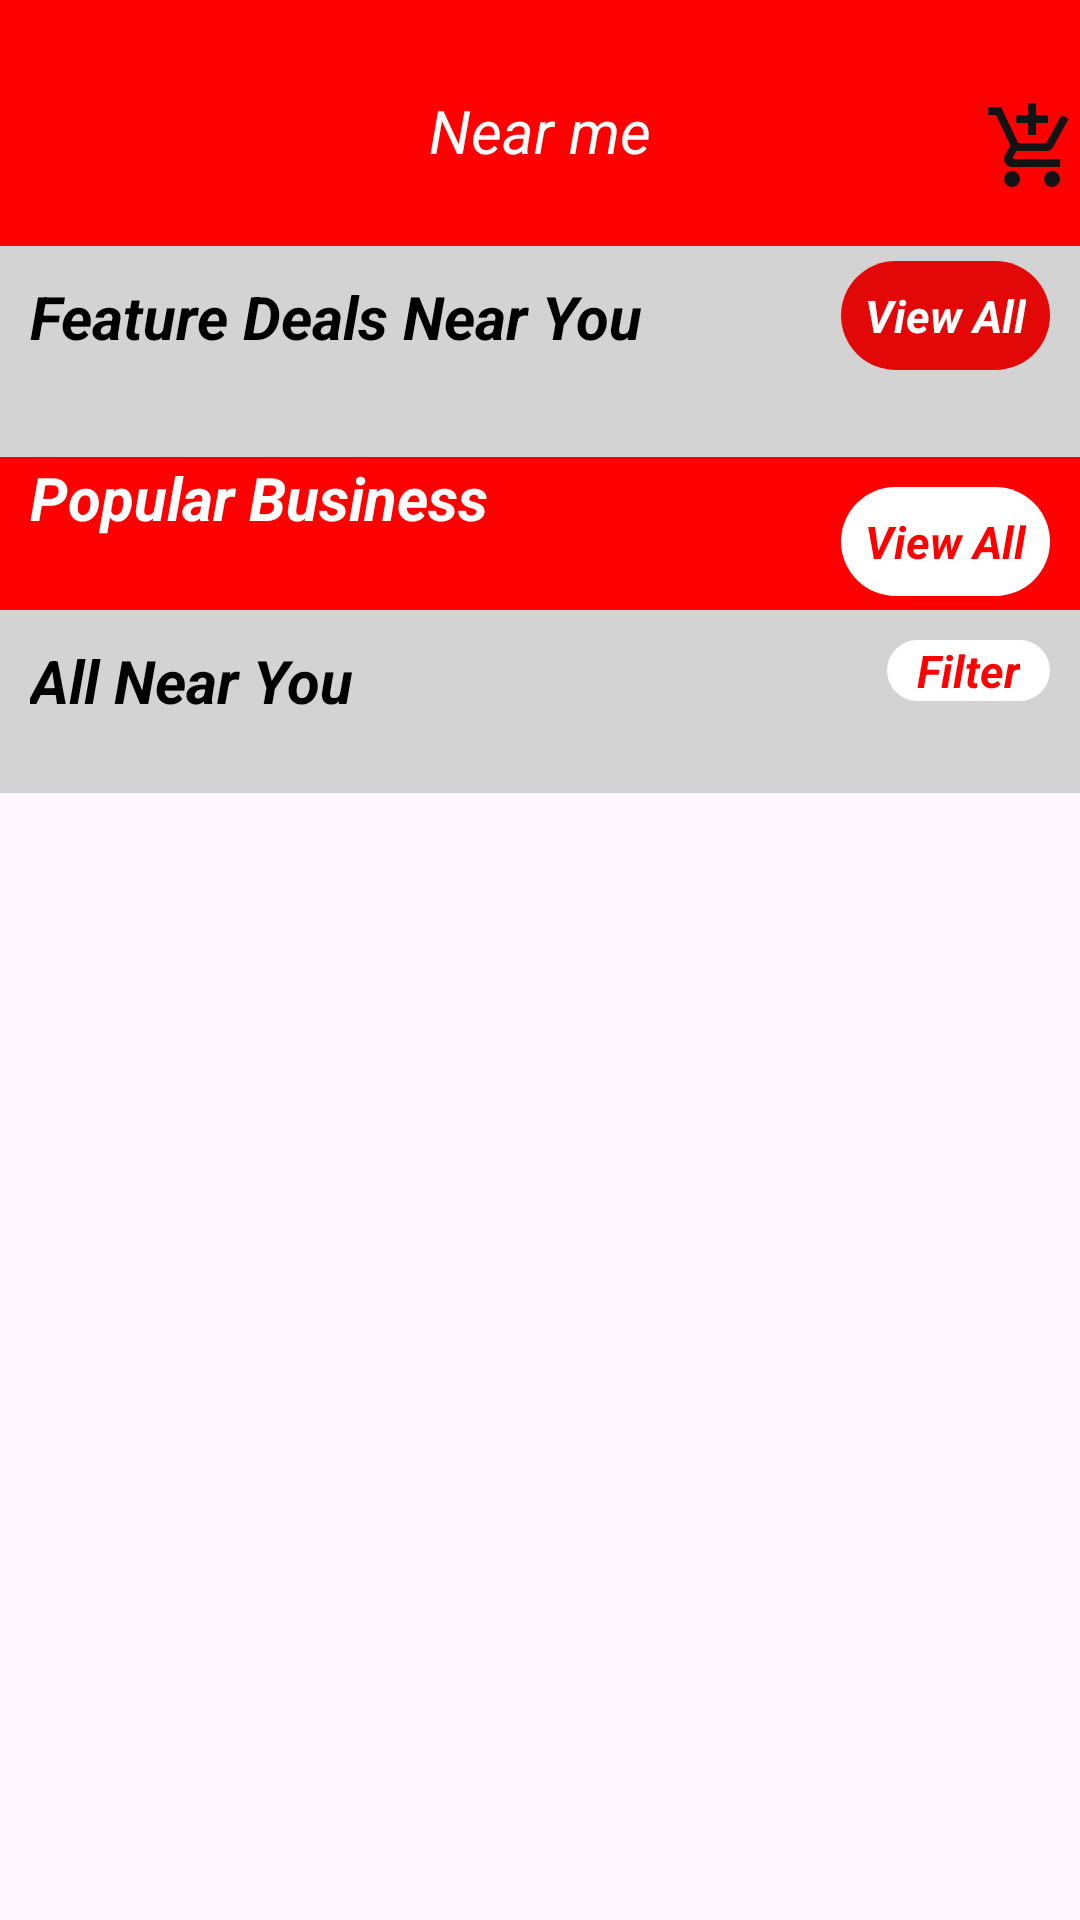

Icons on this 1080*1920 Android screen, each with the point to tap as (x=x, y=y):
add shopping cart: (x=1028, y=145)
